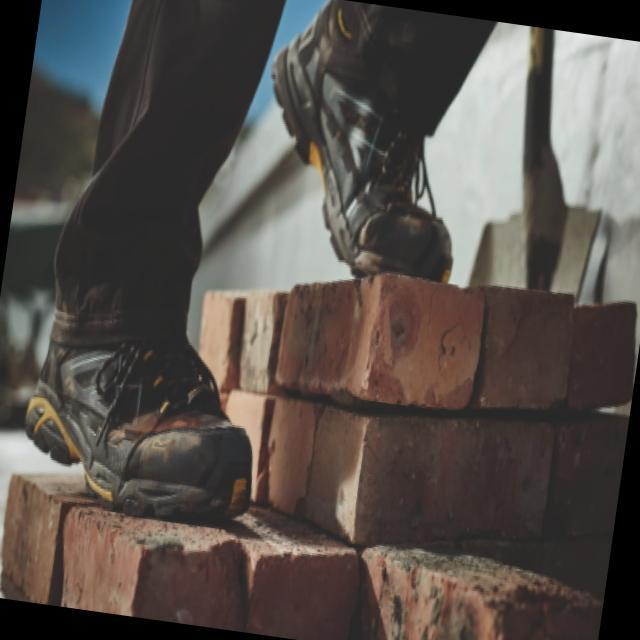boots: (8, 0, 493, 566)
